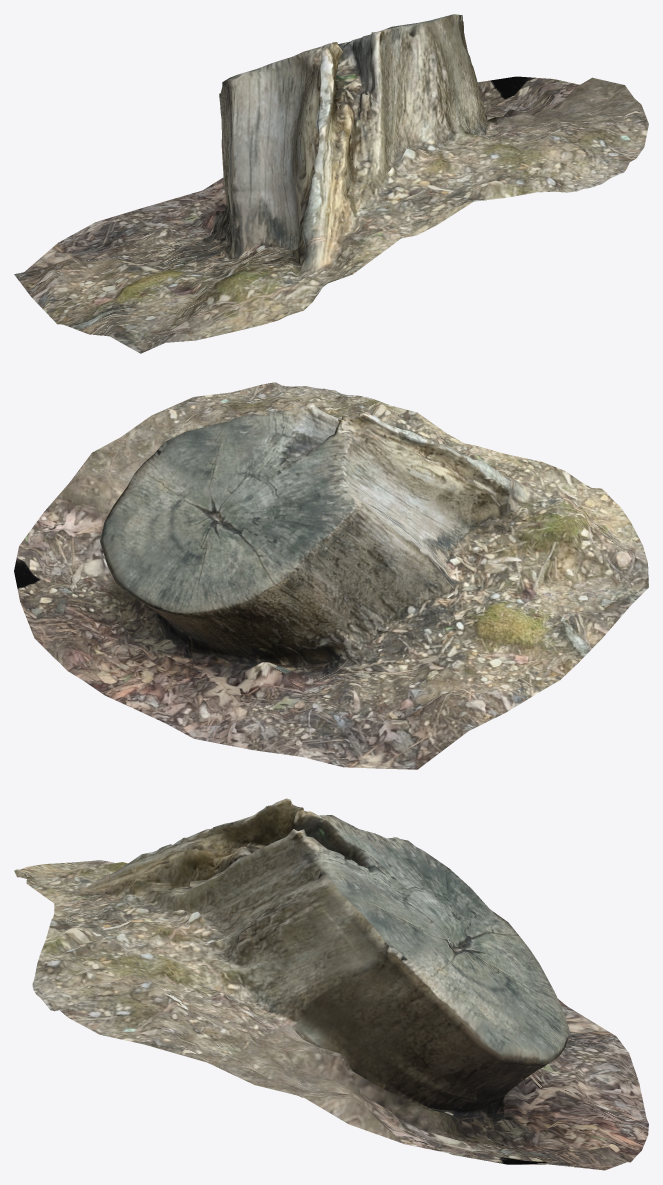
3 views of the same model, one above another, from view 1: azimuth 30°, elevation 25°; view 2: azimuth 150°, elevation 25°; view 3: azimuth 270°, elevation 25° (orthographic). The views are drawn at different scales.
Visible parts, largest first — view 1: NatureLP; view 2: NatureLP; view 3: NatureLP.
Boxes of the visible parts, left/top/right/bottom form: NatureLP: left=14, top=14, right=648, bottom=353; NatureLP: left=14, top=382, right=648, bottom=769; NatureLP: left=14, top=798, right=648, bottom=1170.
Bounding box in the file's own units: 1.03 × 0.4695 × 0.8733.
1 material, 1 textured.
